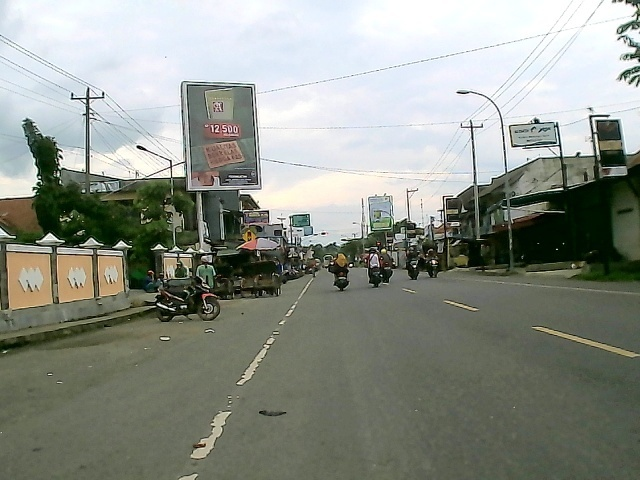Lampu isyarat: (239, 229, 256, 246)
